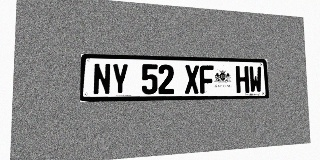2: (158, 64, 174, 94)
5: (142, 64, 158, 94)
F: (199, 65, 214, 94)
H: (235, 66, 249, 93)
N: (93, 63, 111, 95)
W: (249, 66, 262, 93)
X: (184, 65, 199, 94)
Y: (111, 63, 128, 95)
